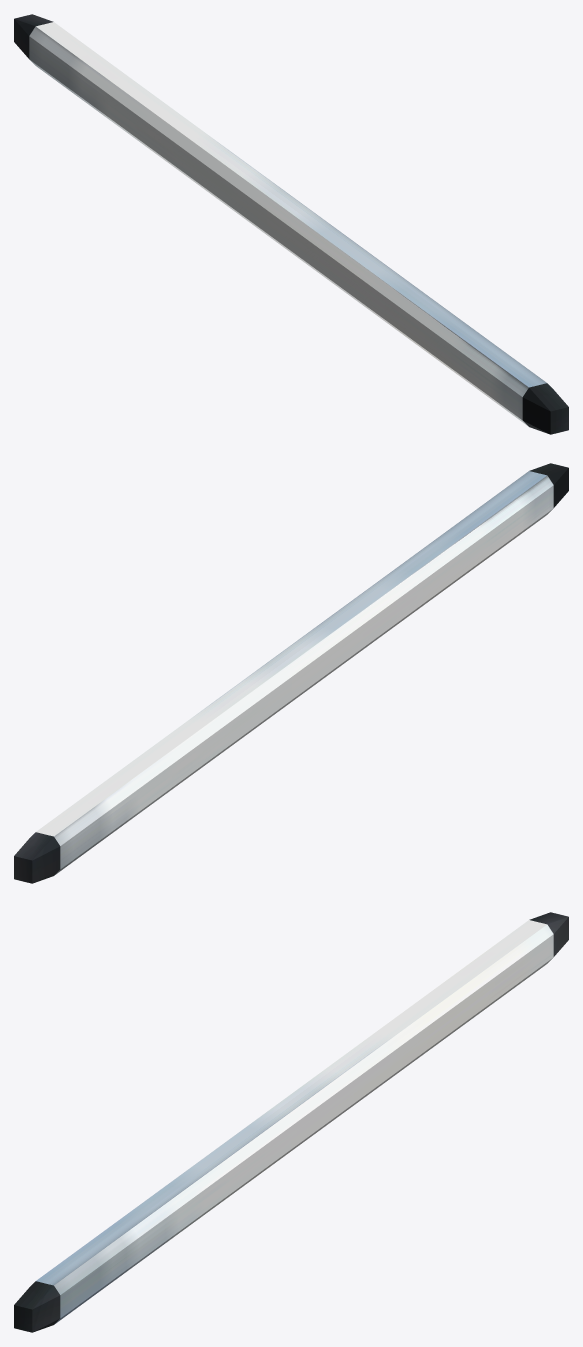
File: barra_luz.fbx
3 views of the same model, one above another, from view 1: azimuth 30°, elevation 25°; view 2: azimuth 150°, elevation 25°; view 3: azimuth 330°, elevation 25° (orthographic).
Visible parts, largest first — view 1: Cube; view 2: Cube; view 3: Cube.
Boxes of the visible parts, bbox=[...] form: Cube: bbox=[14, 14, 568, 434]; Cube: bbox=[14, 463, 568, 883]; Cube: bbox=[14, 912, 568, 1332].
Bounding box in the file's own units: 27.19 × 32.91 × 811.
1 material, 1 textured.
